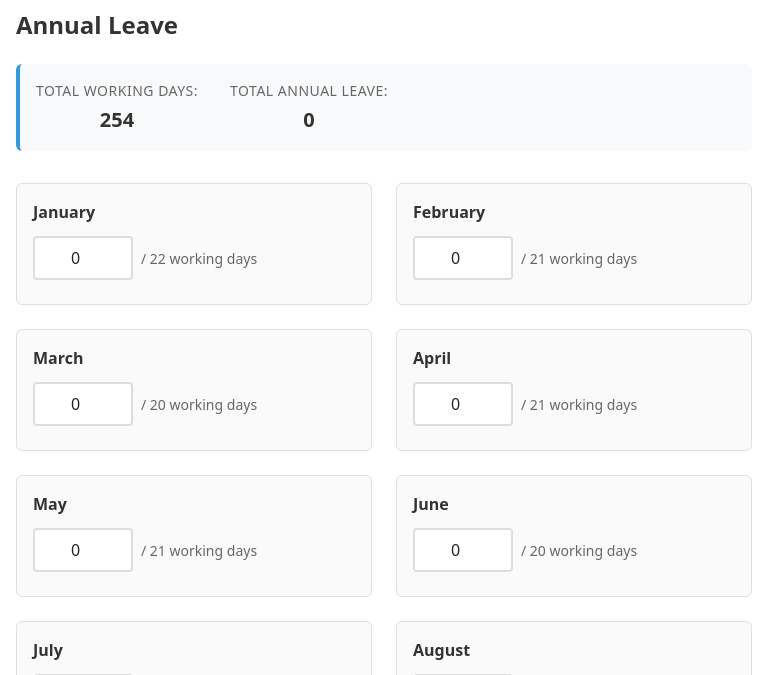
Test: AnnualLeaveInput › Automatic Recalculation › updates total annual leave when individual month values change
# Set leave for January
Replace the text in the number field labelled "January" with "3" at point(83, 258), box [33, 236, 133, 280]
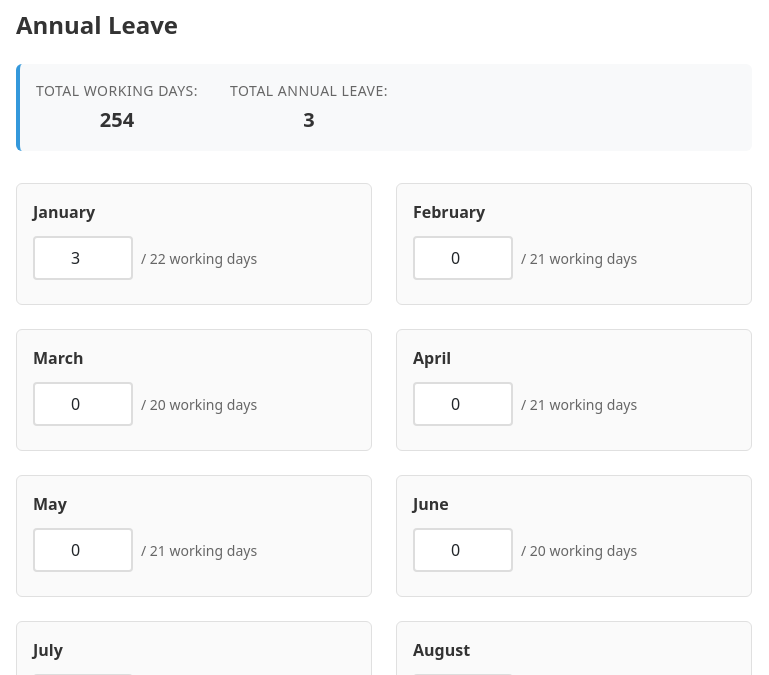
Check: the text "3" is shown, box [303, 105, 315, 135]
# Add leave for February
Replace the text in the number field labelled "February" with "2" at point(463, 258), box [413, 236, 513, 280]
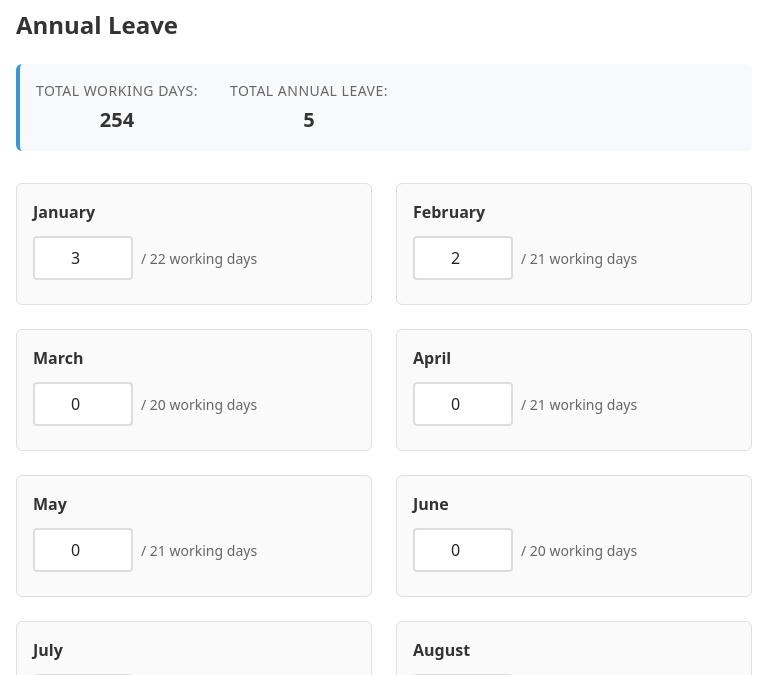
Check: the text "5" is shown, box [303, 105, 315, 135]
